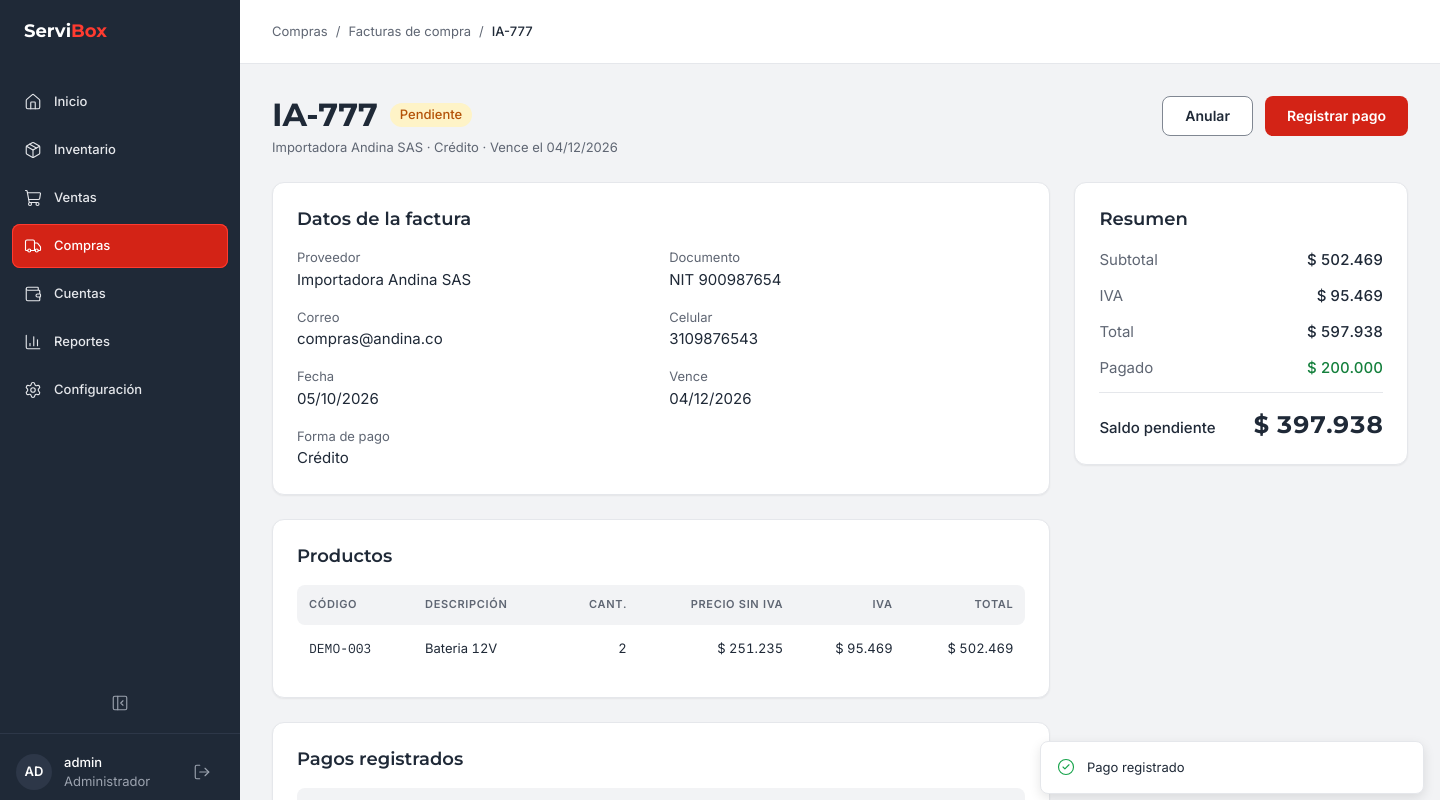
it: detalle de factura de compra › si la factura cambio en otra pestana, el 400 se muestra y los datos se refrescan
Click the button "Registrar pago": (1336, 116) [1265,96,1408,136]
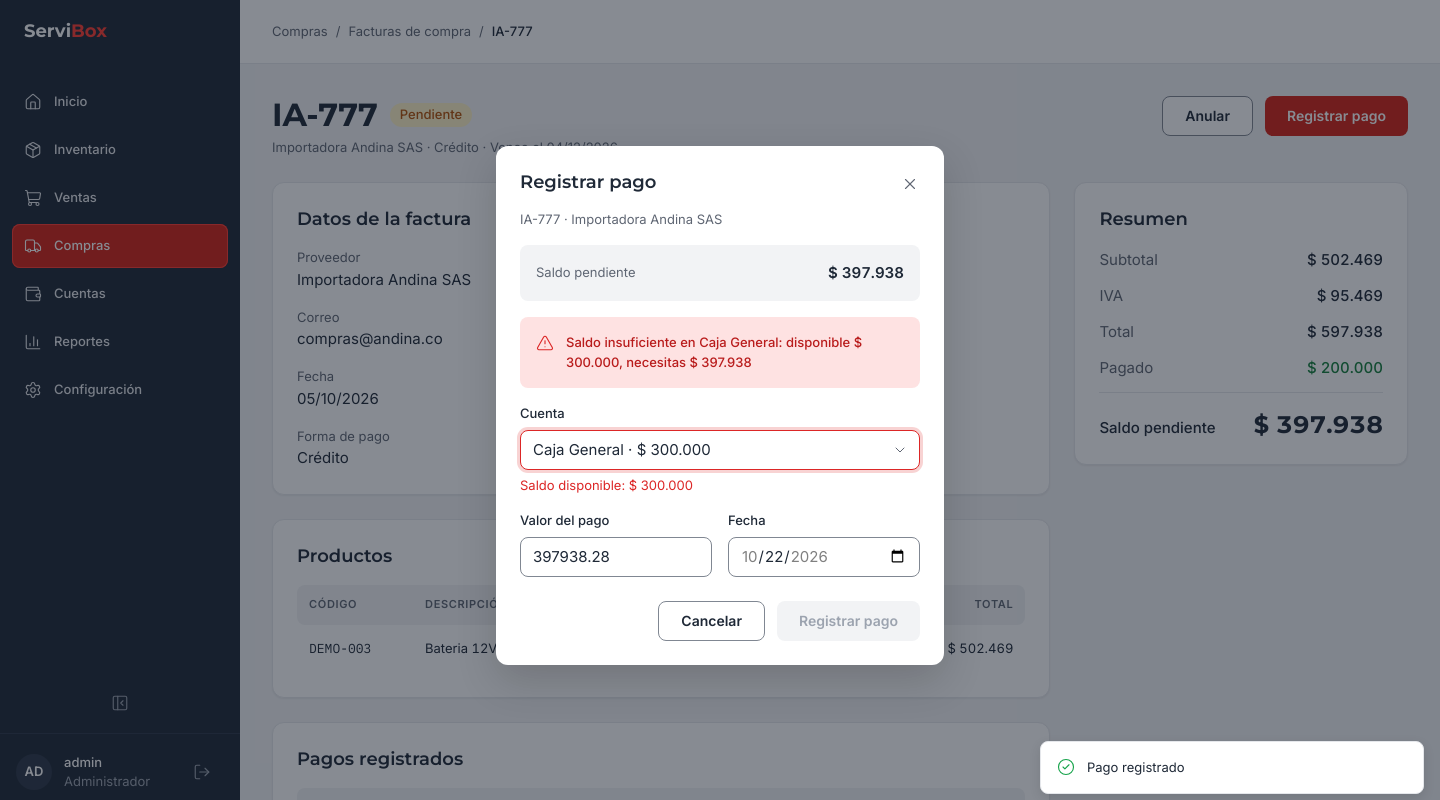
Select "Bancolombia · $ 2.000.000" in the dropdown labelled "Cuenta": (720, 450) [520,430,920,470]
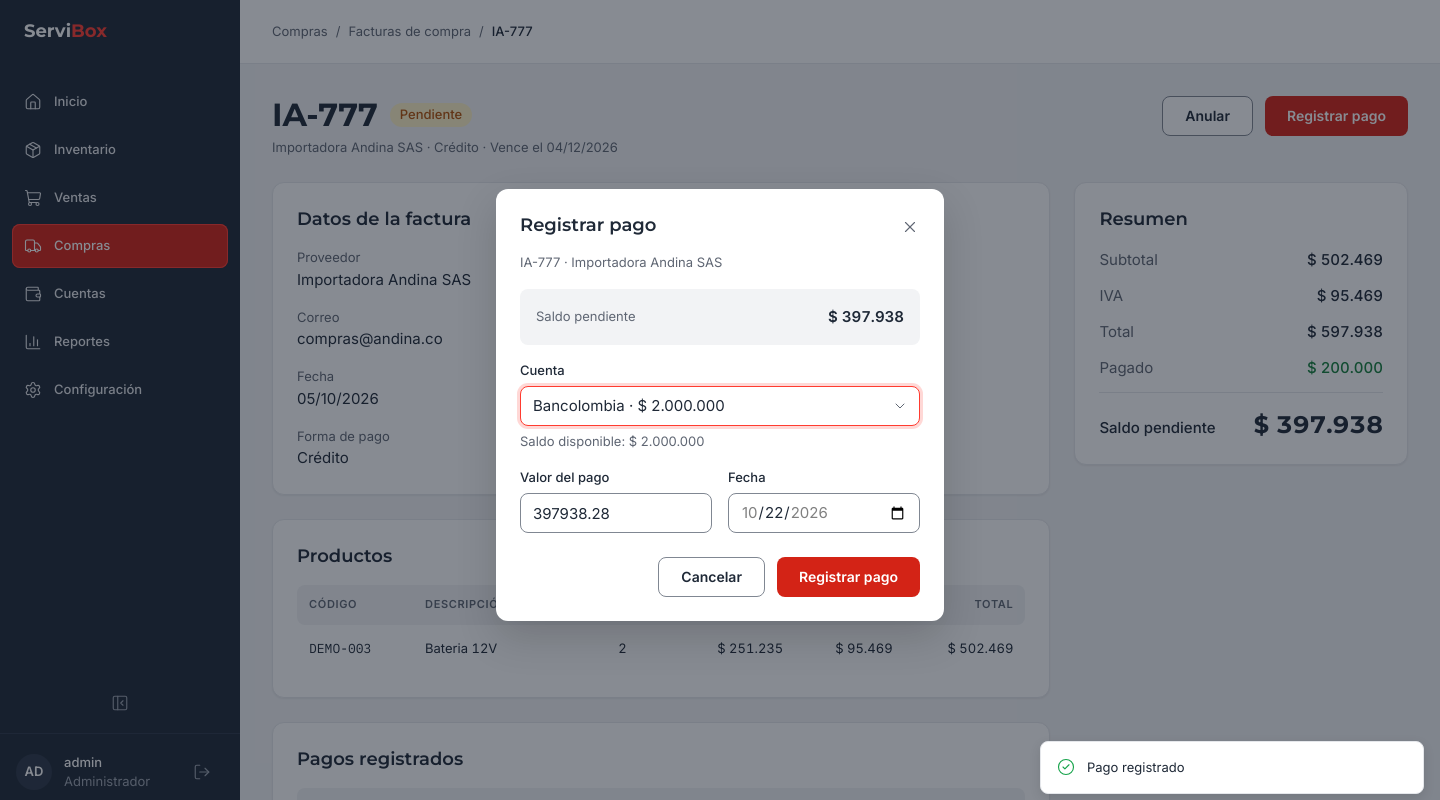
Click the button "Registrar pago": (848, 577) [777,557,920,597]
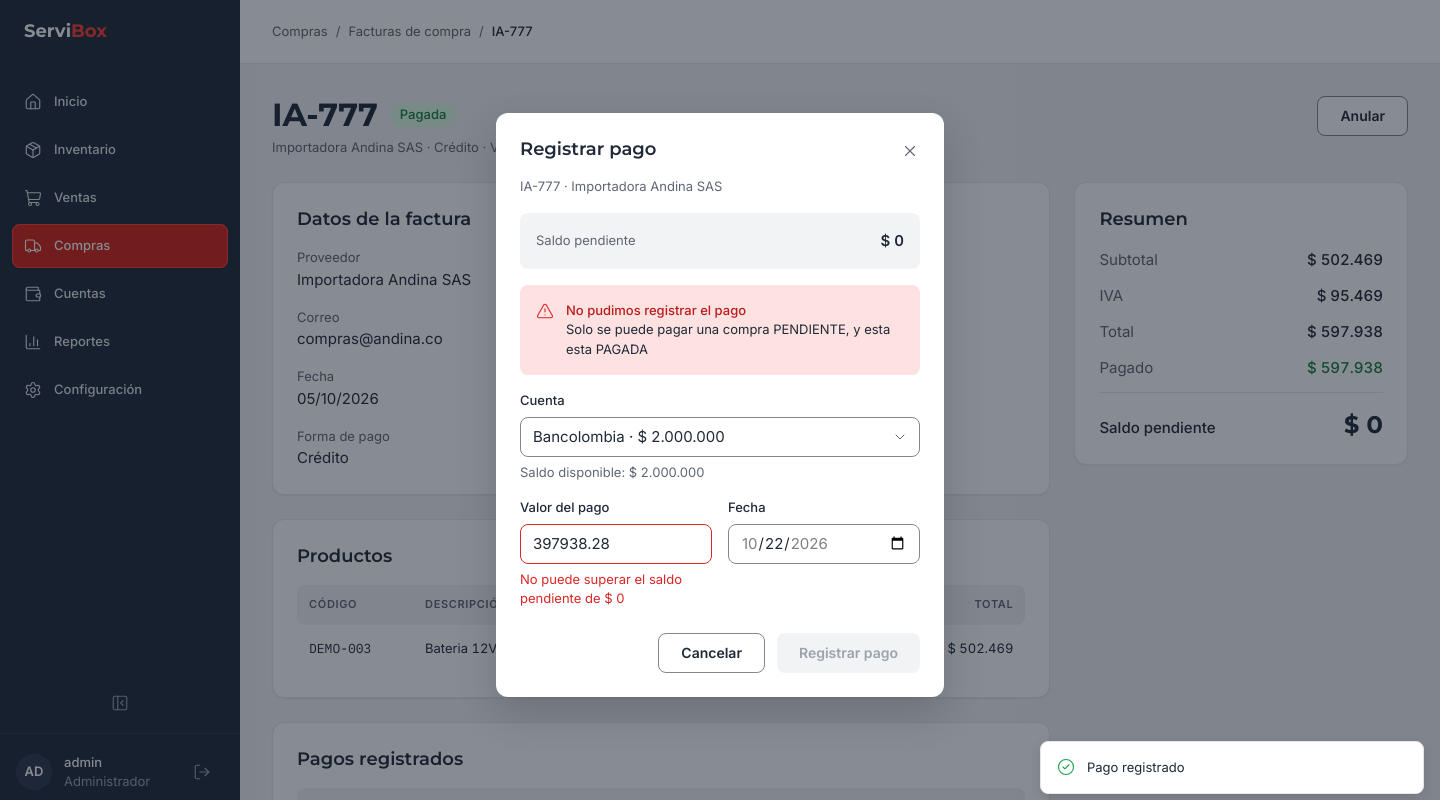
Result: the text "Solo se puede pagar una compra PENDIENTE, y esta esta PAGADA" is shown at [566,320,904,359]
Result: the text "Pagada" is shown at [390,103,456,127]
Press Escape
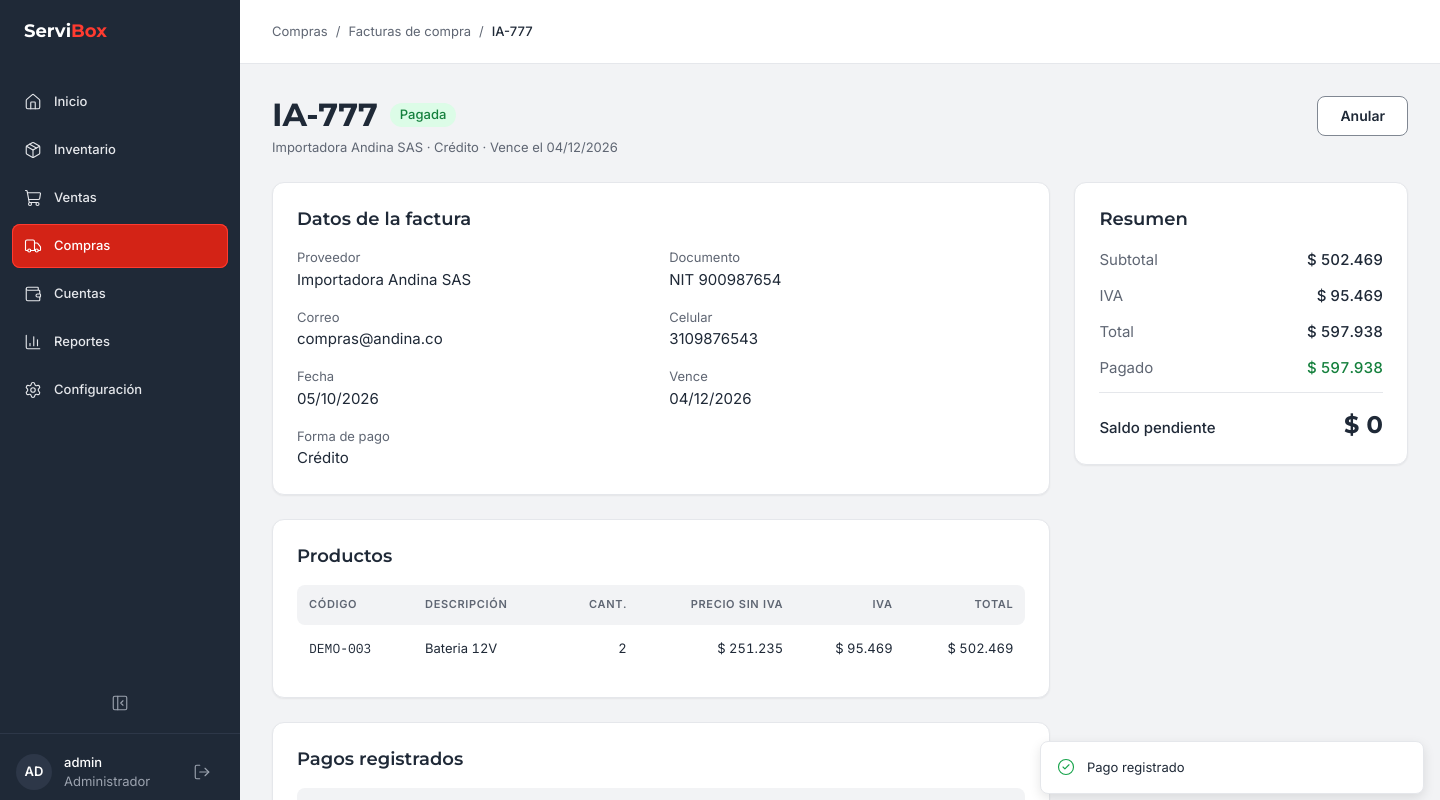
Result: the dialog is gone
Result: the heading "Registrar pago" is gone
